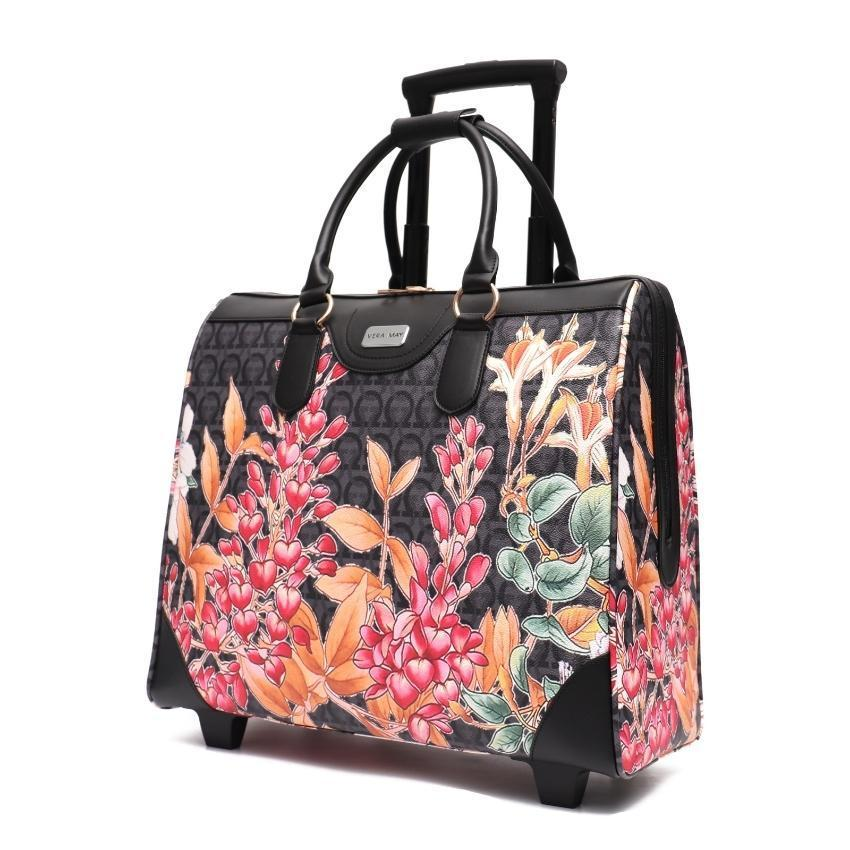handbag: (138, 265, 708, 790)
